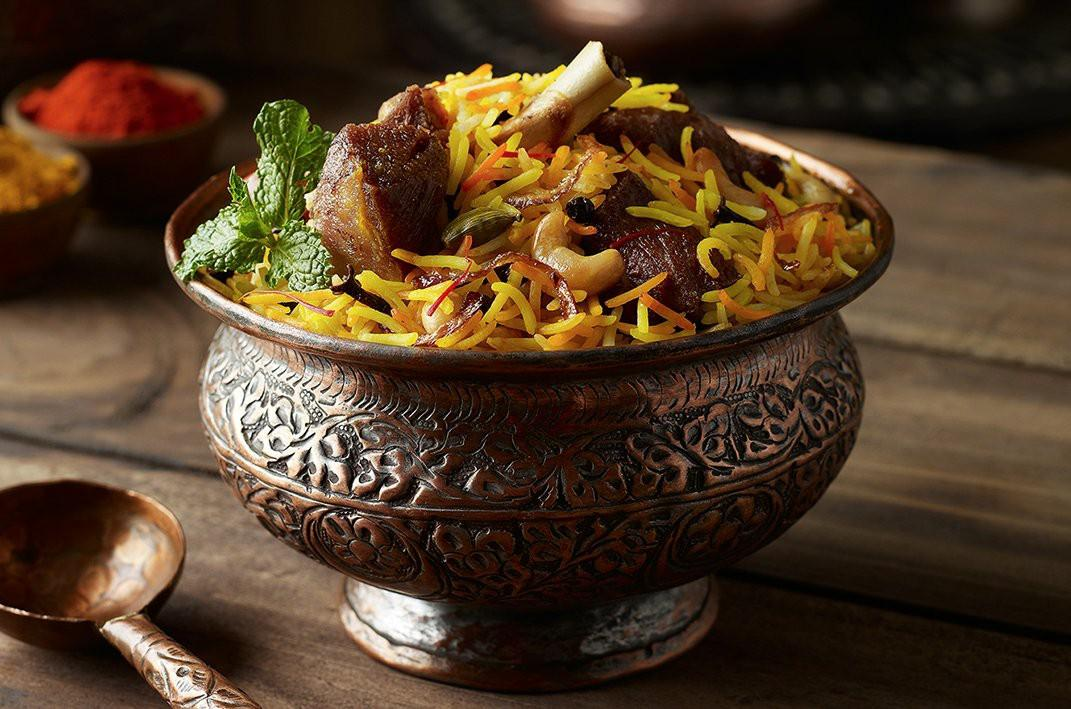Biryani: (183, 39, 879, 350)
